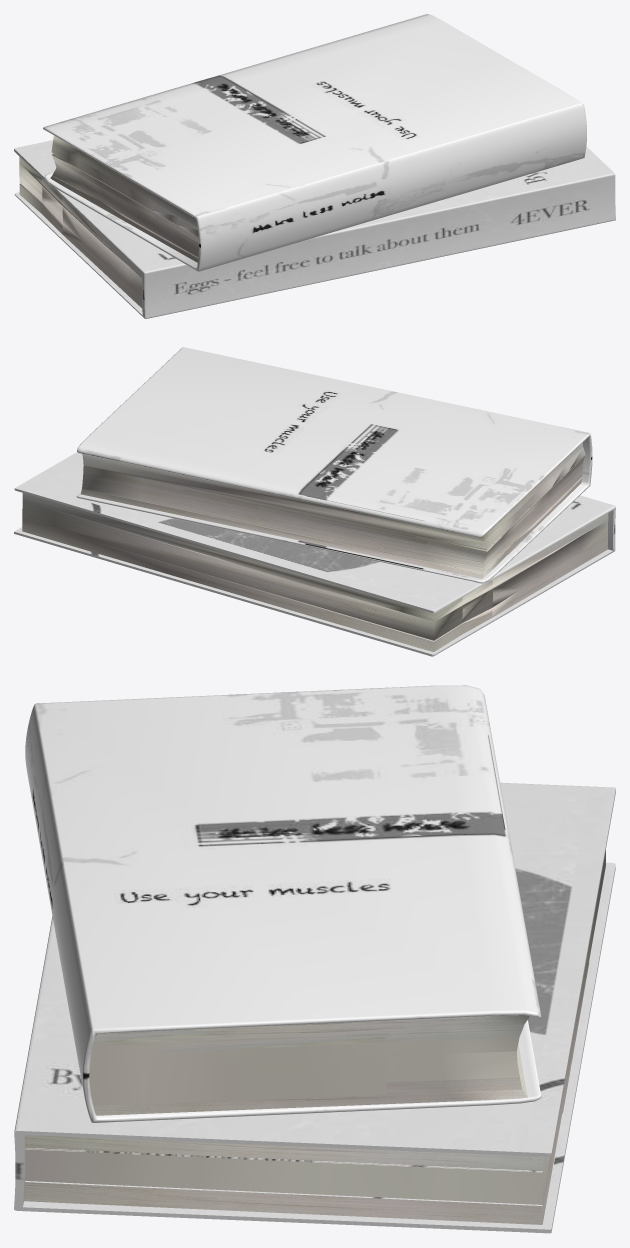
The picture shows the model from 3 angles, top to bottom: view 1: azimuth 30°, elevation 25°; view 2: azimuth 150°, elevation 25°; view 3: azimuth 270°, elevation 25°; orthographic projection. The views are drawn at different scales.
Parts seen in each view (by area): view 1: SketchUp (×3), Group-01_Defintion19 (×4); view 2: SketchUp (×3), Group-01_Defintion19 (×5); view 3: SketchUp (×3), Group-01_Defintion19 (×4).
Boxes of the visible parts, x1=… form: SketchUp (×3): x1=19, y1=14, x2=586, y2=308; Group-01_Defintion19 (×4): x1=14, y1=140, x2=615, y2=318; SketchUp (×3): x1=22, y1=347, x2=608, y2=651; Group-01_Defintion19 (×5): x1=14, y1=452, x2=615, y2=656; SketchUp (×3): x1=24, y1=685, x2=605, y2=1224; Group-01_Defintion19 (×4): x1=14, y1=782, x2=615, y2=1233.
Bounding box in the file's own units: 18.2 × 11.7 × 3.83.
